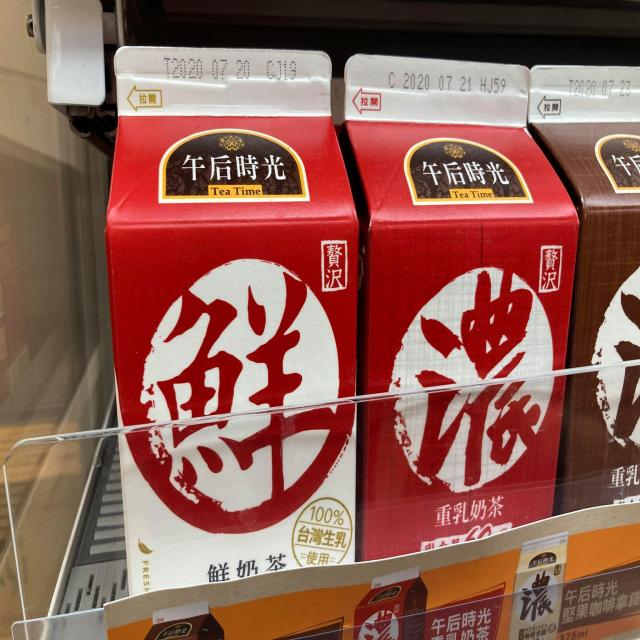non_white_jug: (104, 41, 364, 584), (338, 38, 578, 542)
